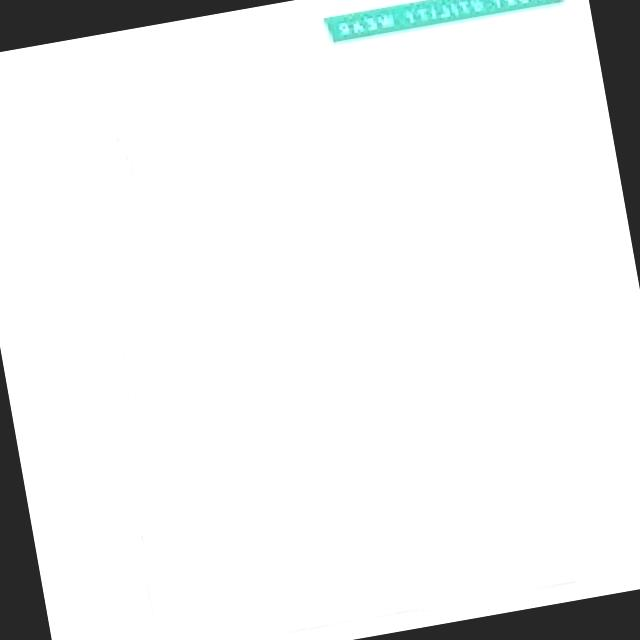no_vest: (59, 25, 584, 640)
